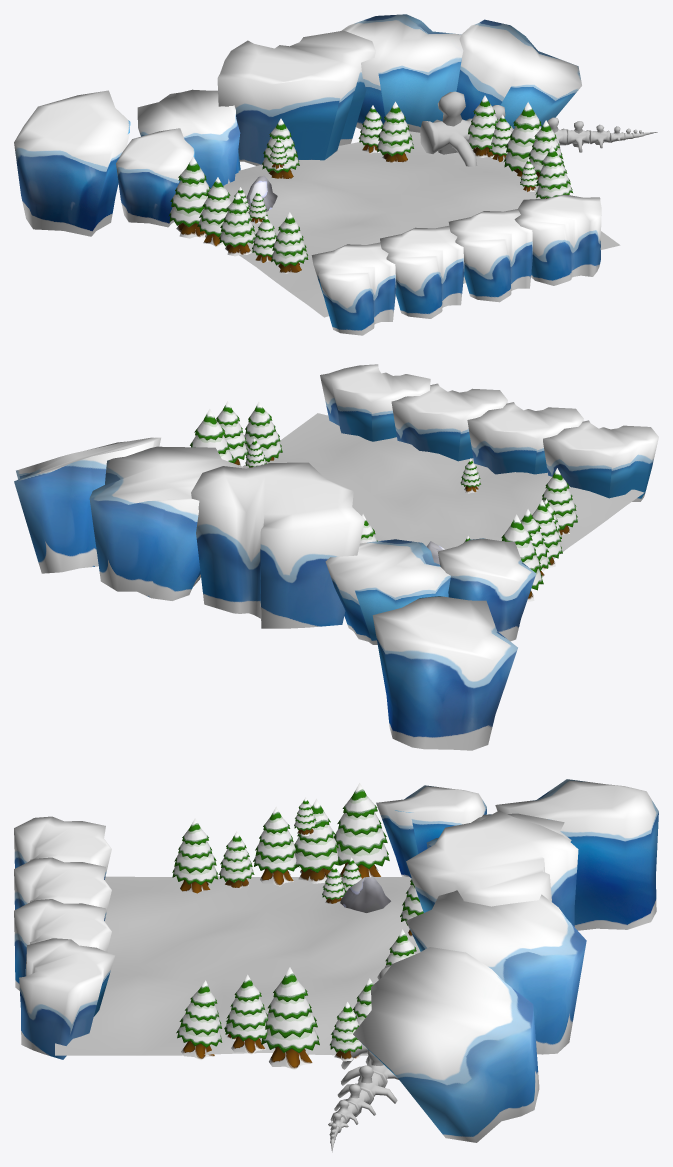
File: Map_1_A_2.FBX
3 renders of one model, top to bottom at view 1: azimuth 30°, elevation 25°; view 2: azimuth 150°, elevation 25°; view 3: azimuth 270°, elevation 25°, orthographic. The views are drawn at different scales.
Parts seen in each view (by area): view 1: tereno1, Iceberg018, Iceberg024, Iceberg016, Iceberg017, Iceberg011, Iceberg023, Iceberg022, Iceberg021, Iceberg019, Iceberg01, Animal bones (+14 smaller); view 2: Iceberg018, tereno1, Iceberg024, Iceberg016, Iceberg017, Iceberg019, Iceberg023, Iceberg01, Iceberg022, Iceberg021, Iceberg011, Three090 (+6 smaller); view 3: tereno1, Iceberg017, Iceberg016, Iceberg024, Iceberg018, Iceberg011, Iceberg01, Iceberg021, Iceberg022, Iceberg023, Three089, Three057 (+15 smaller).
Part boxes in pixels (x1,y1,x2,y2): tereno1: (210, 131, 620, 317); Iceberg018: (217, 30, 375, 165); Iceberg024: (14, 90, 130, 236); Iceberg016: (341, 14, 463, 132); Iceberg017: (456, 19, 581, 128); Iceberg011: (514, 194, 601, 285); Iceberg023: (311, 242, 396, 335); Iceberg022: (380, 226, 464, 318); Iceberg021: (448, 209, 532, 302); Iceberg019: (137, 89, 240, 188); Iceberg01: (116, 128, 194, 227); Animal bones: (420, 91, 657, 166); Iceberg018: (191, 462, 364, 628); tereno1: (243, 413, 644, 559); Iceberg024: (372, 596, 517, 750); Iceberg016: (89, 446, 243, 600); Iceberg017: (14, 437, 160, 573); Iceberg019: (325, 539, 450, 644); Iceberg023: (543, 420, 658, 501); Iceberg01: (437, 538, 536, 641); Iceberg022: (467, 402, 583, 474); Iceberg021: (391, 383, 507, 461); Iceberg011: (320, 364, 430, 441); Three090: (244, 401, 282, 461); tereno1: (55, 876, 420, 1055); Iceberg017: (353, 947, 539, 1142); Iceberg016: (406, 890, 586, 1054); Iceberg024: (495, 779, 658, 930); Iceberg018: (406, 810, 578, 926); Iceberg011: (19, 938, 114, 1059); Iceberg01: (376, 785, 486, 878); Iceberg021: (14, 899, 111, 990); Iceberg022: (14, 857, 111, 920); Iceberg023: (14, 816, 111, 879); Three089: (260, 967, 319, 1069); Three057: (334, 783, 389, 878).
Size of the model in its own units: 910 by 233 by 764.
